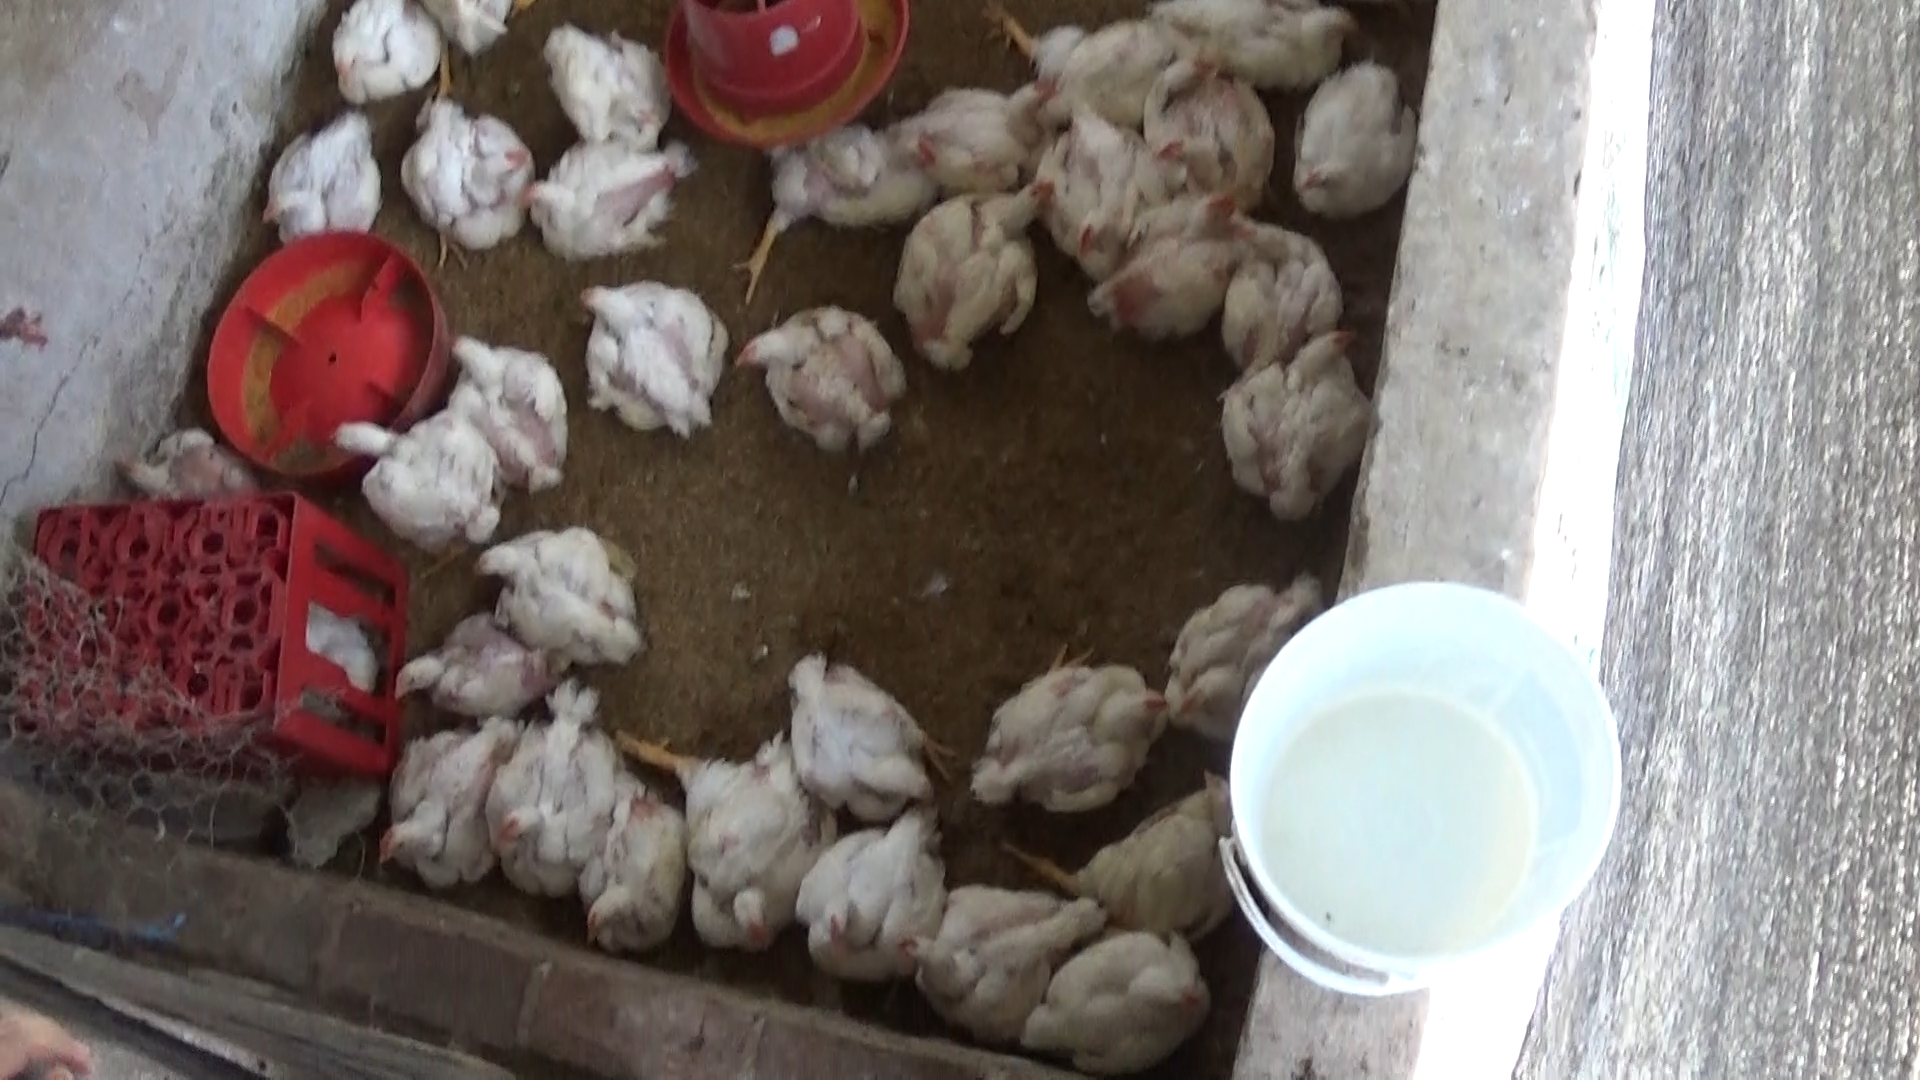Pollos: (601, 719, 829, 953), (997, 787, 1261, 938), (729, 124, 963, 291), (895, 171, 1069, 367), (975, 641, 1175, 808), (475, 676, 624, 899), (887, 885, 1092, 1036), (781, 638, 953, 818), (560, 272, 735, 448), (729, 303, 907, 456), (1015, 96, 1167, 276), (1222, 319, 1364, 506), (371, 700, 512, 885), (975, 7, 1209, 112), (1025, 922, 1205, 1056), (322, 418, 502, 553), (1154, 575, 1313, 727), (796, 804, 939, 972), (469, 533, 646, 667), (443, 324, 578, 497), (404, 102, 541, 269), (1295, 47, 1412, 229), (1228, 193, 1342, 373), (514, 148, 705, 255), (895, 71, 1050, 200), (584, 771, 688, 957), (1098, 199, 1244, 332), (539, 12, 676, 148), (1163, 0, 1360, 91), (1153, 74, 1280, 207), (328, 0, 462, 128), (390, 605, 546, 712), (256, 108, 378, 241)
